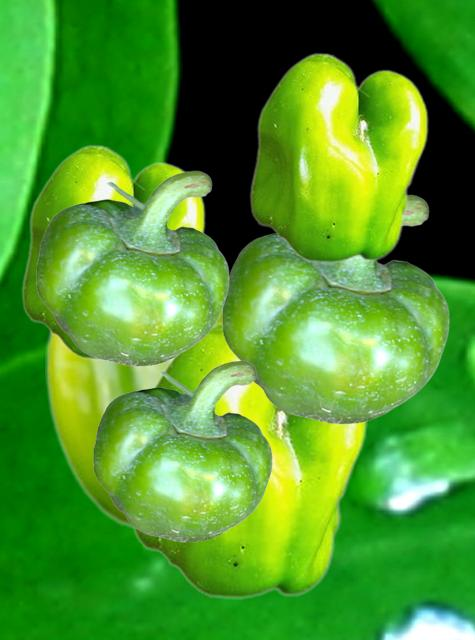bell_pepper: (131, 321, 366, 598), (222, 194, 448, 423), (21, 144, 204, 359), (45, 315, 221, 532), (36, 170, 228, 365), (249, 52, 427, 262), (93, 360, 271, 541)
